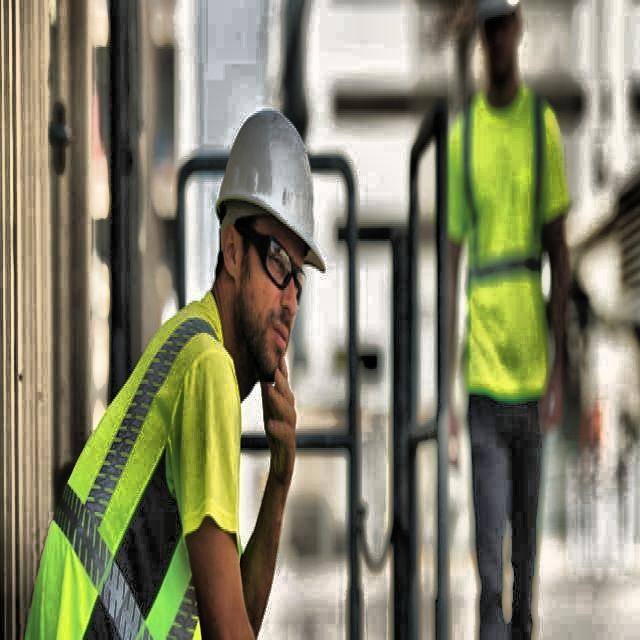person: (21, 96, 325, 640), (444, 0, 582, 640)
